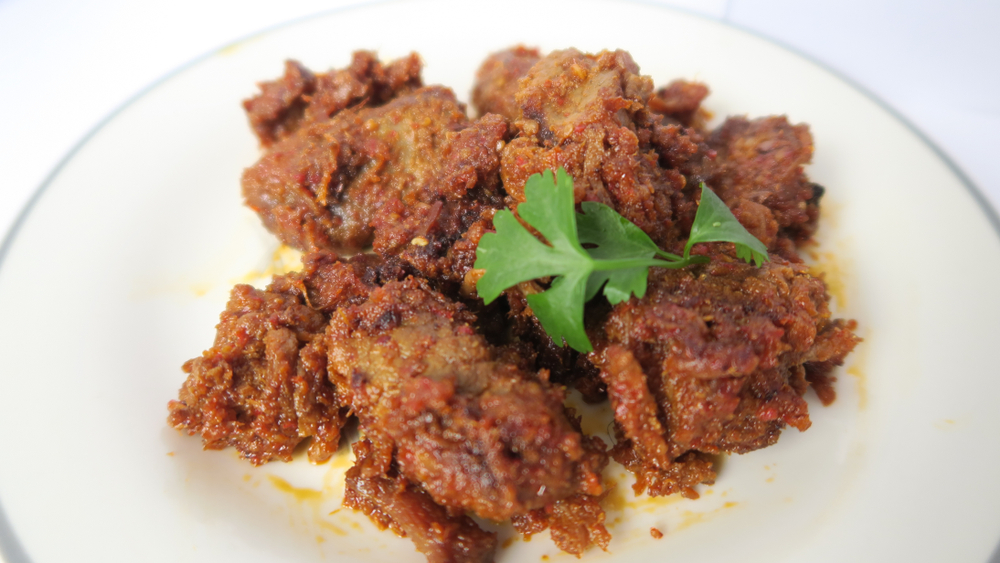rendang: (125, 29, 949, 562)
